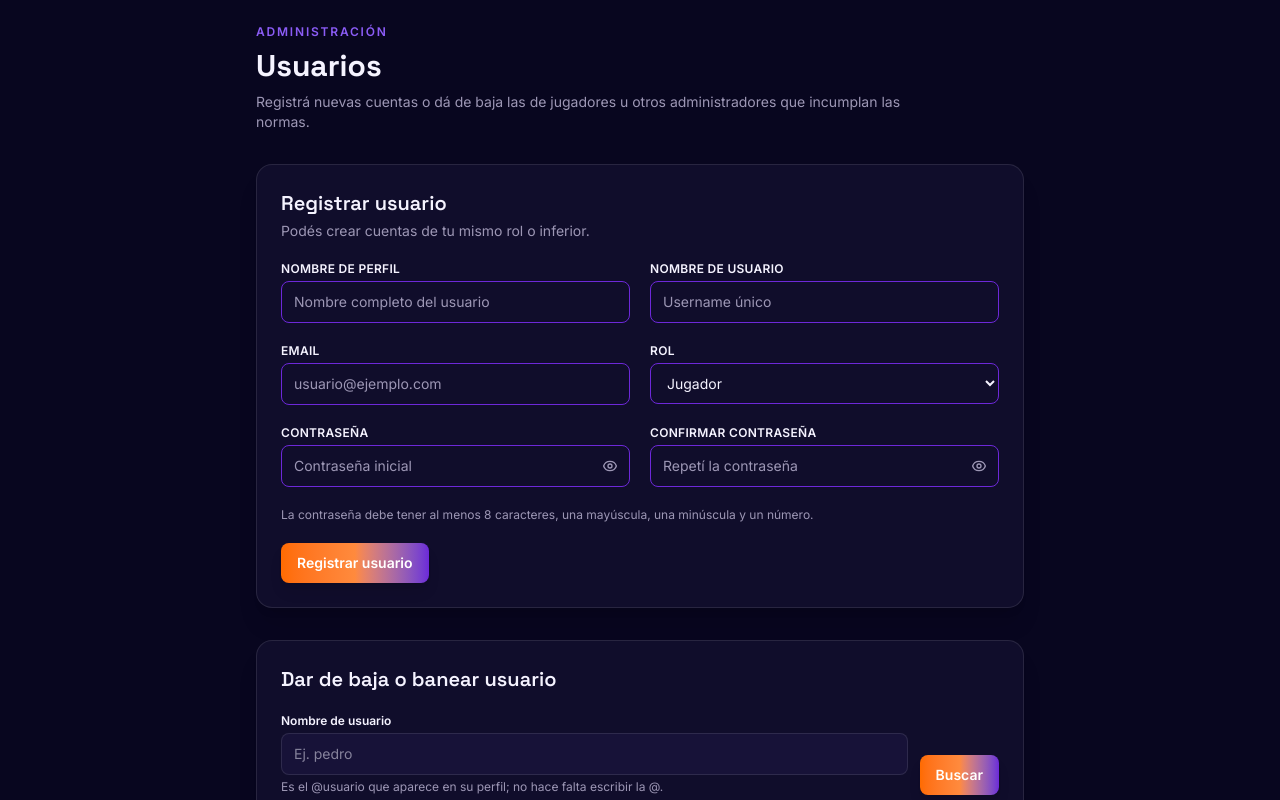
UsuariosPage - US 50 Eliminar cuenta de usuario › sin permisos de admin muestra el error del backend
The width and height of the screenshot is (1280, 800).
Type "pedro" into the field labelled "Nombre de usuario" at (594, 754), box top-left (281, 733), bottom-right (908, 775)
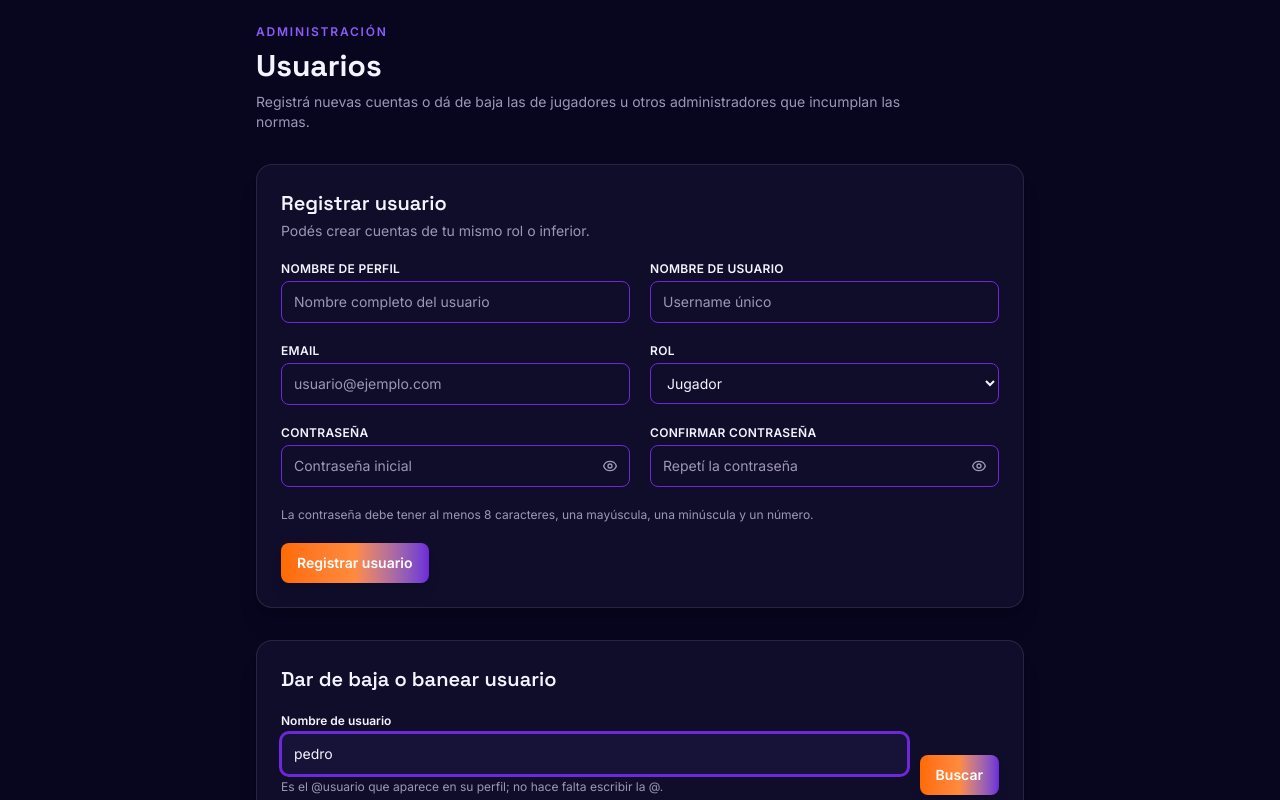
Click the button "Buscar" at (959, 775), box top-left (920, 755), bottom-right (999, 795)
(page scrolled)
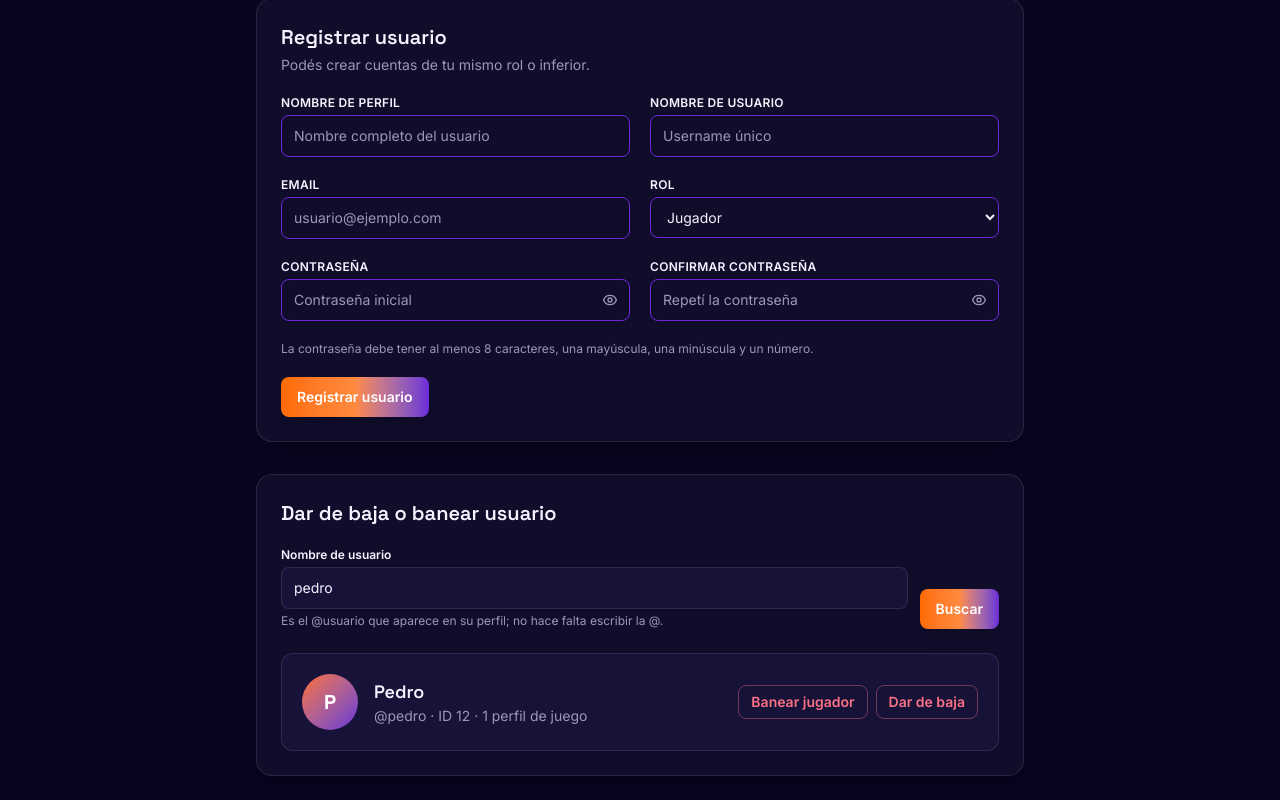
Click the button "Dar de baja" at (927, 702), box top-left (876, 685), bottom-right (978, 719)
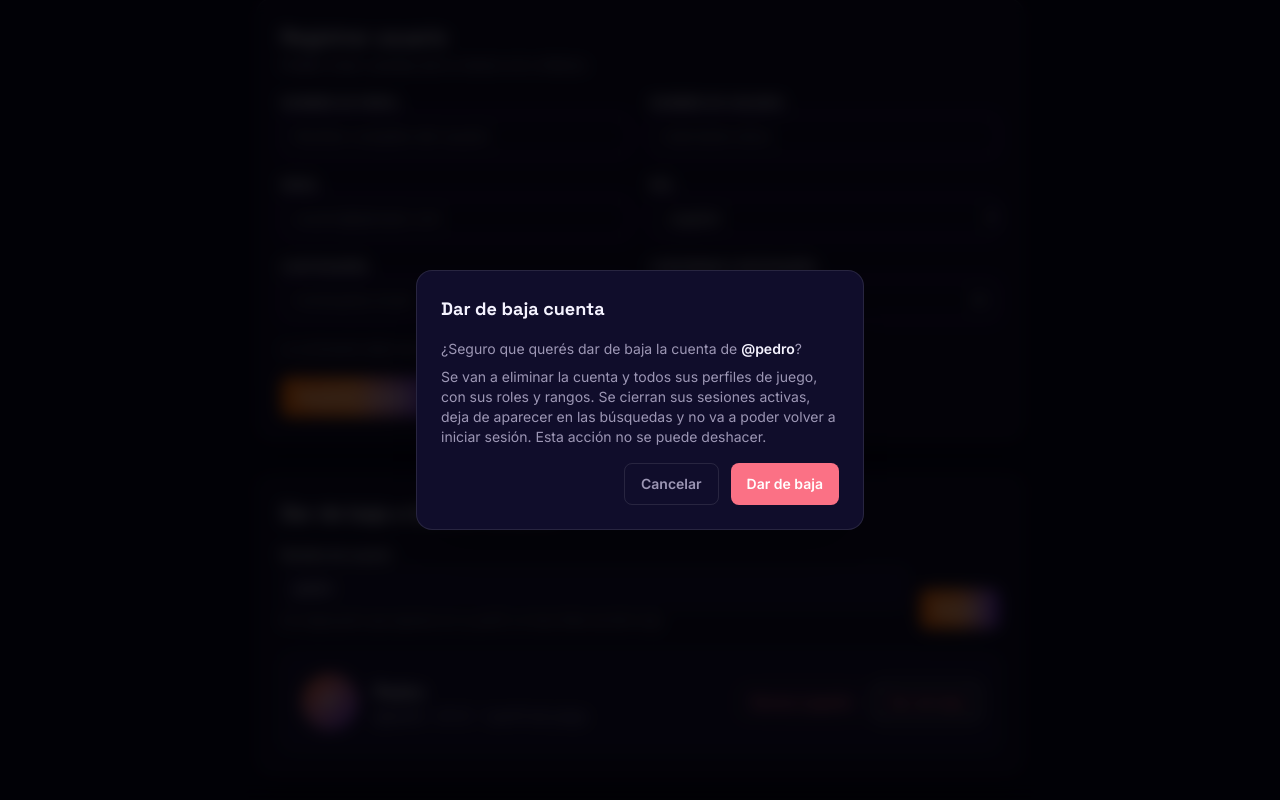
Click the button "Dar de baja" at (785, 484), box top-left (731, 463), bottom-right (839, 505)
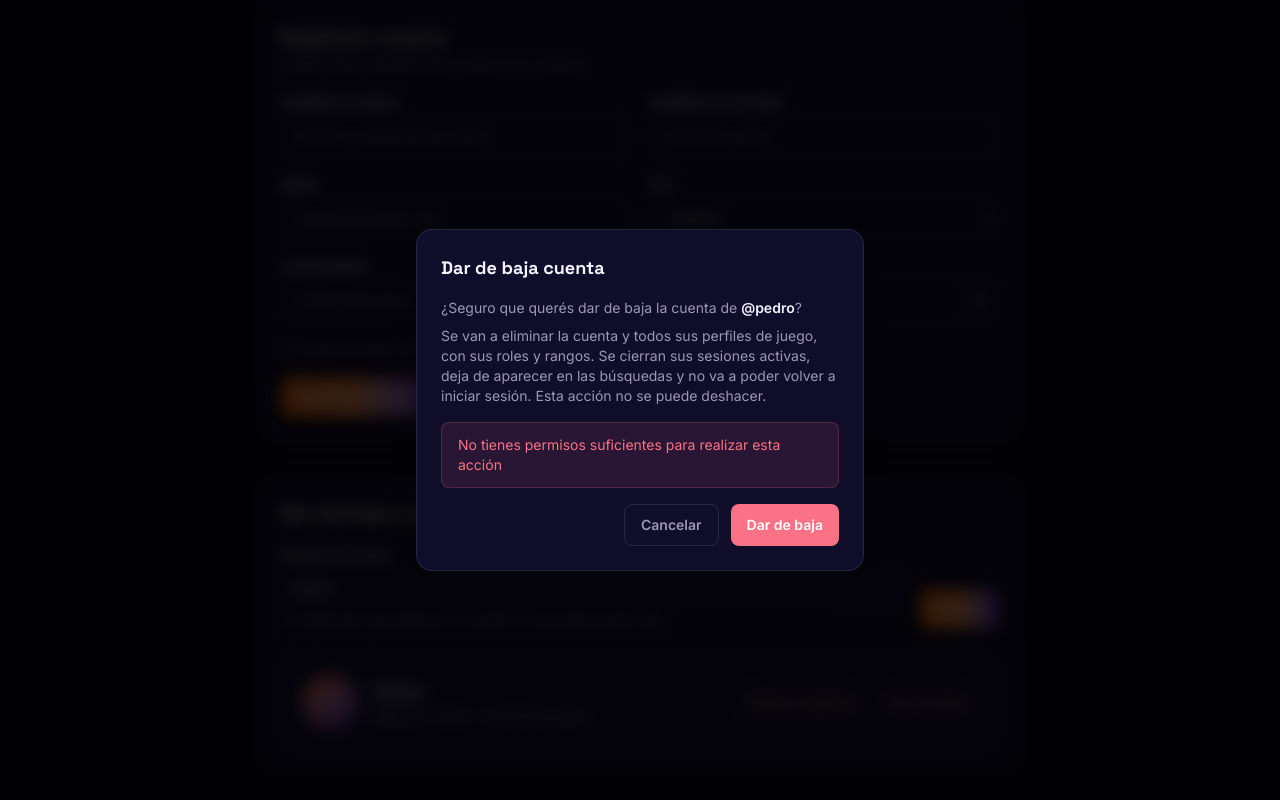
Check: the text "No tienes permisos suficientes para realizar esta acción" is shown, box top-left (458, 435), bottom-right (822, 475)
